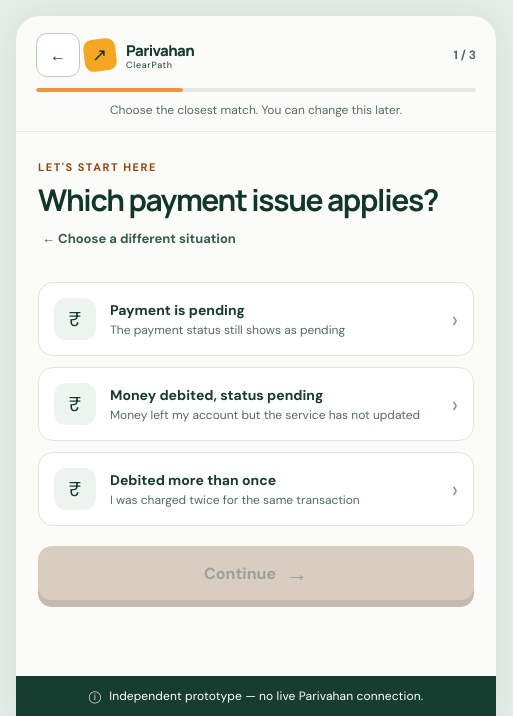
returns from the payment follow-up to the top-level situation selector
The width and height of the screenshot is (513, 716).
Click the button "← Choose a different situation" at (139, 238), box [38,216,240,260]
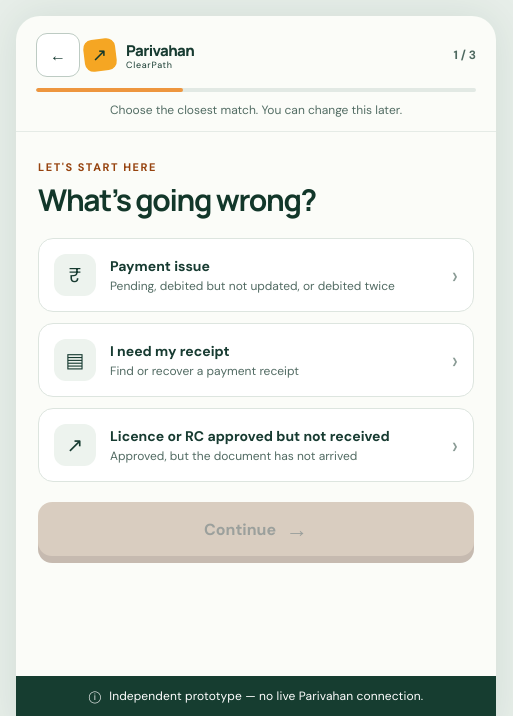
Expected: the text "Payment issue" is shown, [110,256,210,274]
Expected: the text "I need my receipt" is shown, [110,342,230,360]
Expected: the text "Licence or RC approved but not received" is shown, [110,426,390,444]
